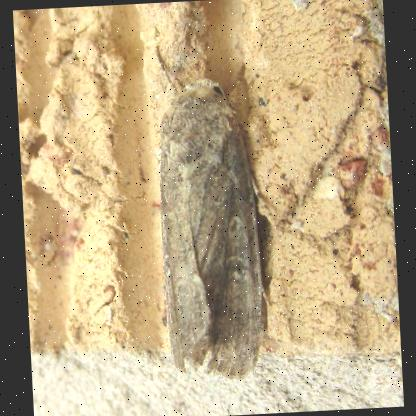Fall Armyworm Moth: (142, 37, 300, 387)
